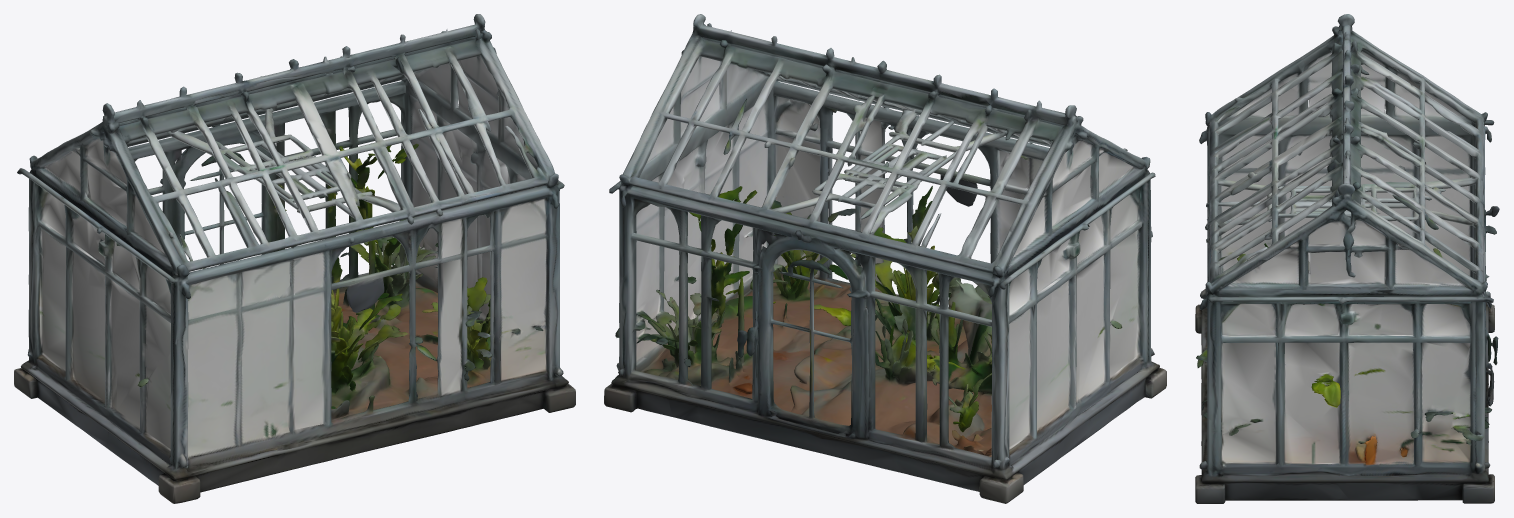
Rendered from building-greenhouse.glb.
3 views of the same model, side by side, from view 1: azimuth 30°, elevation 25°; view 2: azimuth 150°, elevation 25°; view 3: azimuth 270°, elevation 25° (orthographic). The views are drawn at different scales.
Visible parts, largest first — view 1: tripo_node_ec96851b-8b90-415e-8020-bd91a671bf5e; view 2: tripo_node_ec96851b-8b90-415e-8020-bd91a671bf5e; view 3: tripo_node_ec96851b-8b90-415e-8020-bd91a671bf5e.
Part boxes in pixels (box(x1,y1,x2,y2)): tripo_node_ec96851b-8b90-415e-8020-bd91a671bf5e: box(14, 14, 575, 503); tripo_node_ec96851b-8b90-415e-8020-bd91a671bf5e: box(604, 14, 1166, 503); tripo_node_ec96851b-8b90-415e-8020-bd91a671bf5e: box(1195, 14, 1499, 503).
Bounding box in the file's own units: 7.53 × 6 × 5.25.
1 material, 1 textured.
